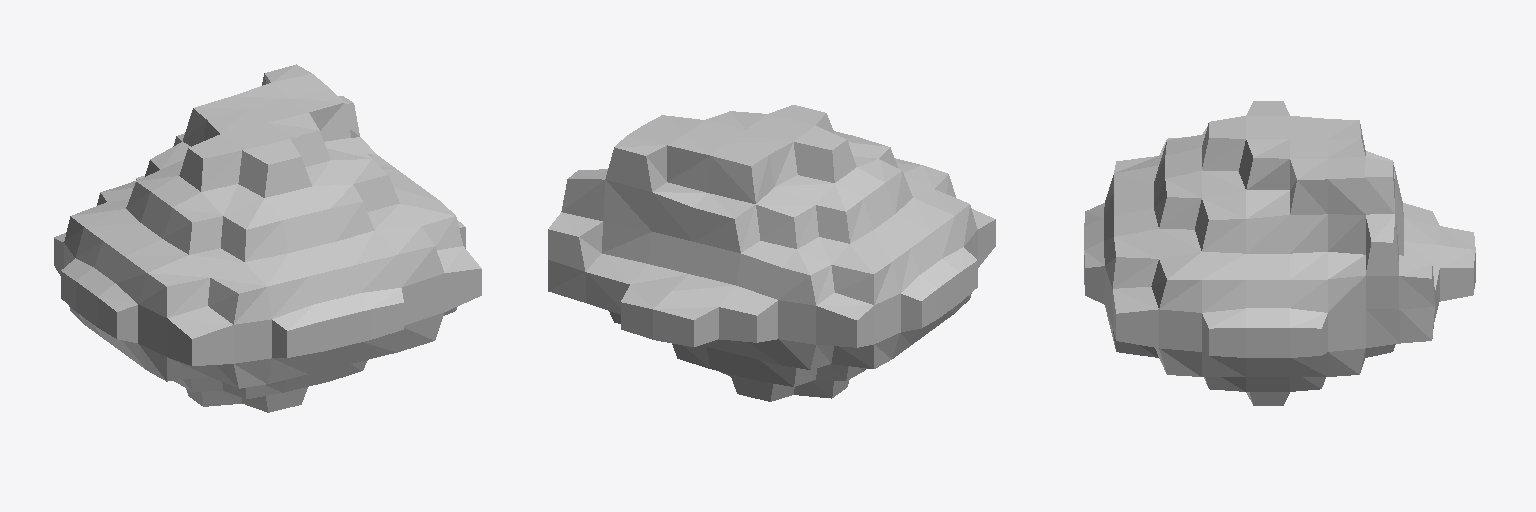
File: Meteor4.obj
3 renders of one model, left to right at view 1: azimuth 30°, elevation 25°; view 2: azimuth 150°, elevation 25°; view 3: azimuth 270°, elevation 25°, orthographic.
Visible parts, largest first — view 1: Meteor2_Cube.001; view 2: Meteor2_Cube.001; view 3: Meteor2_Cube.001.
Part boxes in pixels (left/top/right/bottom): Meteor2_Cube.001: left=54, top=64, right=481, bottom=412; Meteor2_Cube.001: left=548, top=105, right=995, bottom=401; Meteor2_Cube.001: left=1084, top=101, right=1475, bottom=405.
Bounding box in the file's own units: 6.57 × 4.58 × 6.35.